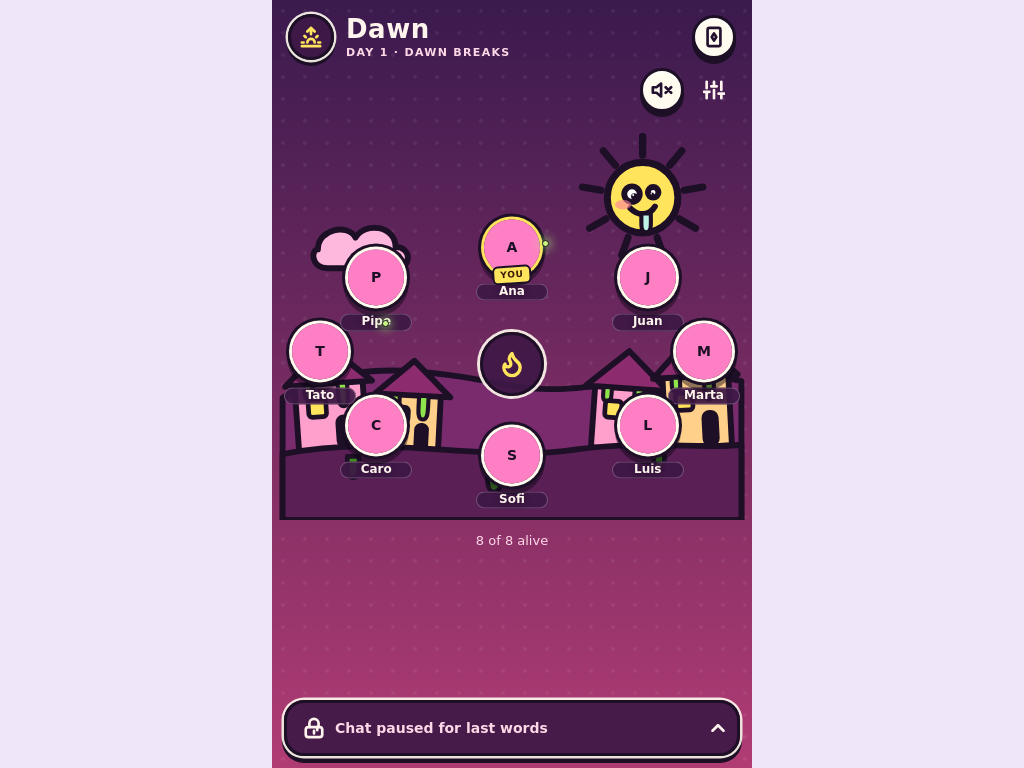
Test: chat bar and sheet › pauses the village while last words are open
Click the button with class "chatbar": [512, 728] box [284,700,740,756]
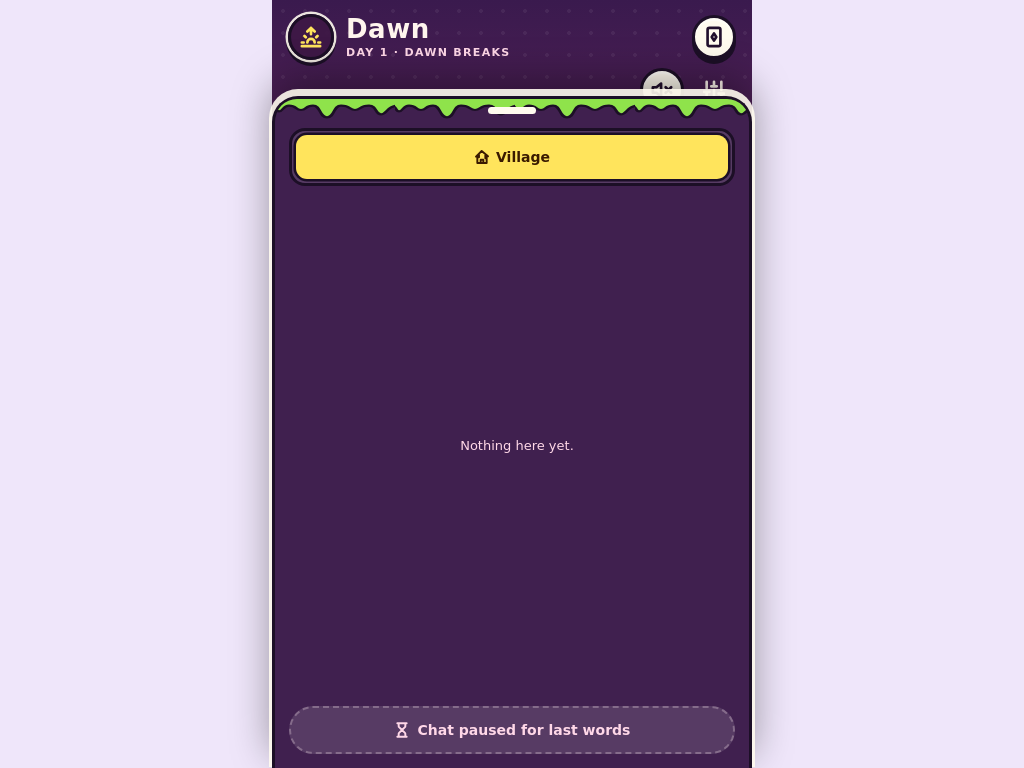
Check: the message with class "locked-note" reads "Chat paused for last words", box [418,722,630,738]
